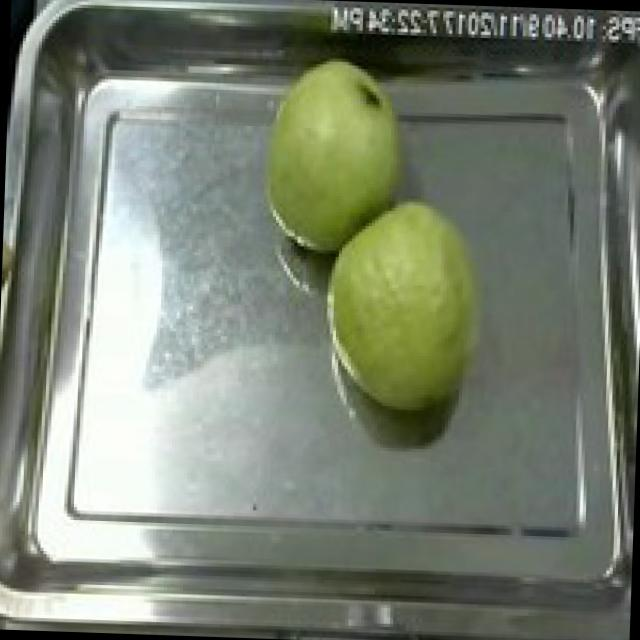Fruit: (313, 182, 507, 426), (245, 46, 422, 262)
